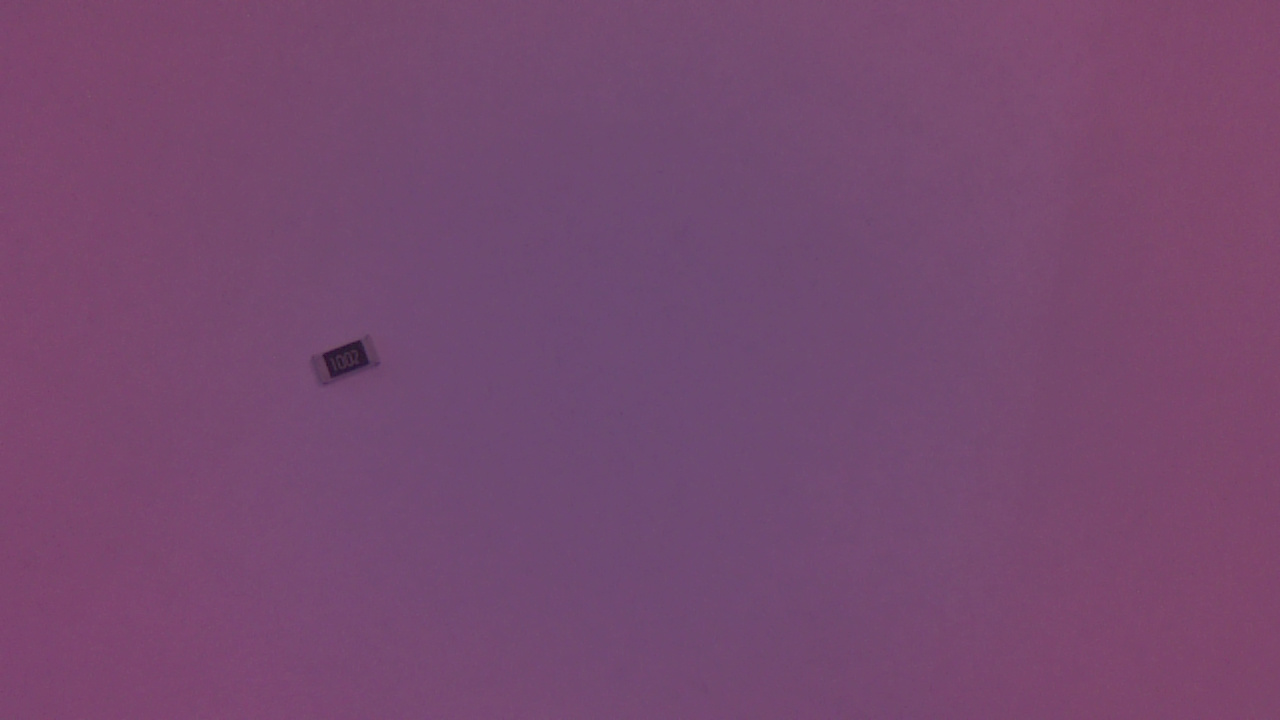Resistor: (310, 335, 391, 391)
